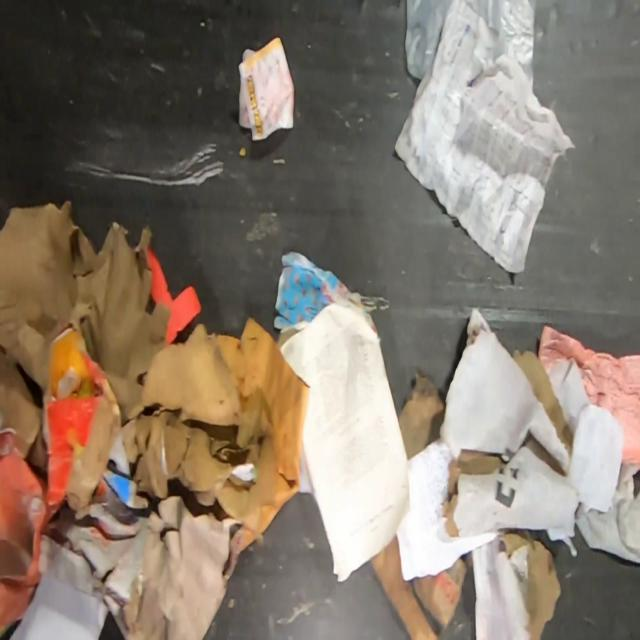cardboard: (0, 198, 309, 640), (437, 350, 579, 540), (366, 530, 466, 640), (494, 531, 562, 639), (396, 371, 446, 463), (0, 358, 36, 464)
soft_plastic: (404, 0, 537, 97)
